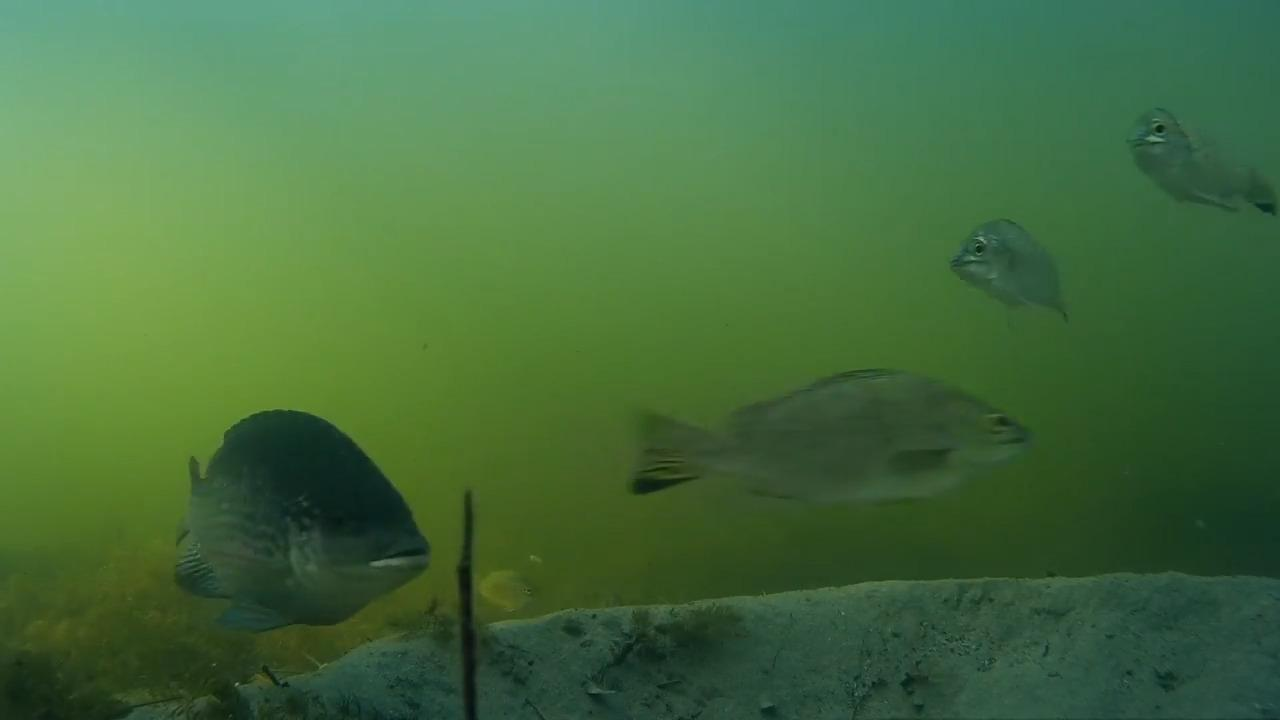Tilapia: (617, 356, 1056, 548), (171, 402, 438, 654), (1105, 96, 1280, 250), (919, 188, 1082, 336)
